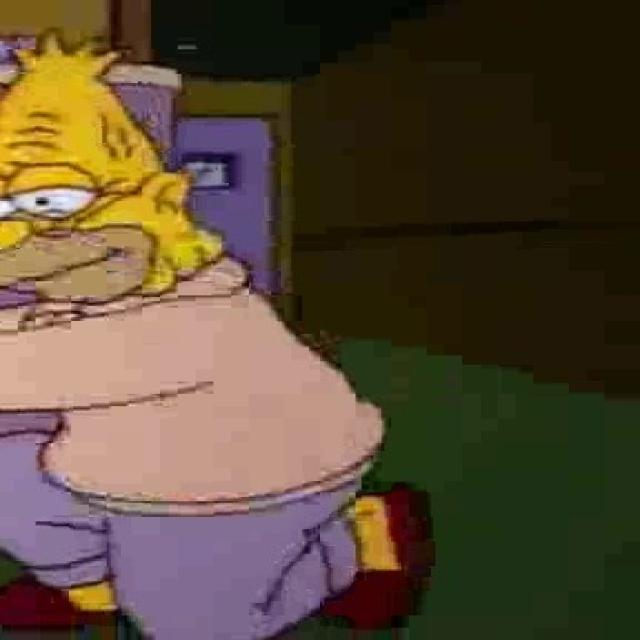Abraham Grampa Simpson: (0, 28, 227, 310)
